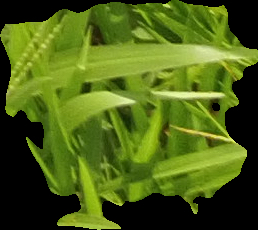grass: (1, 1, 257, 227)
